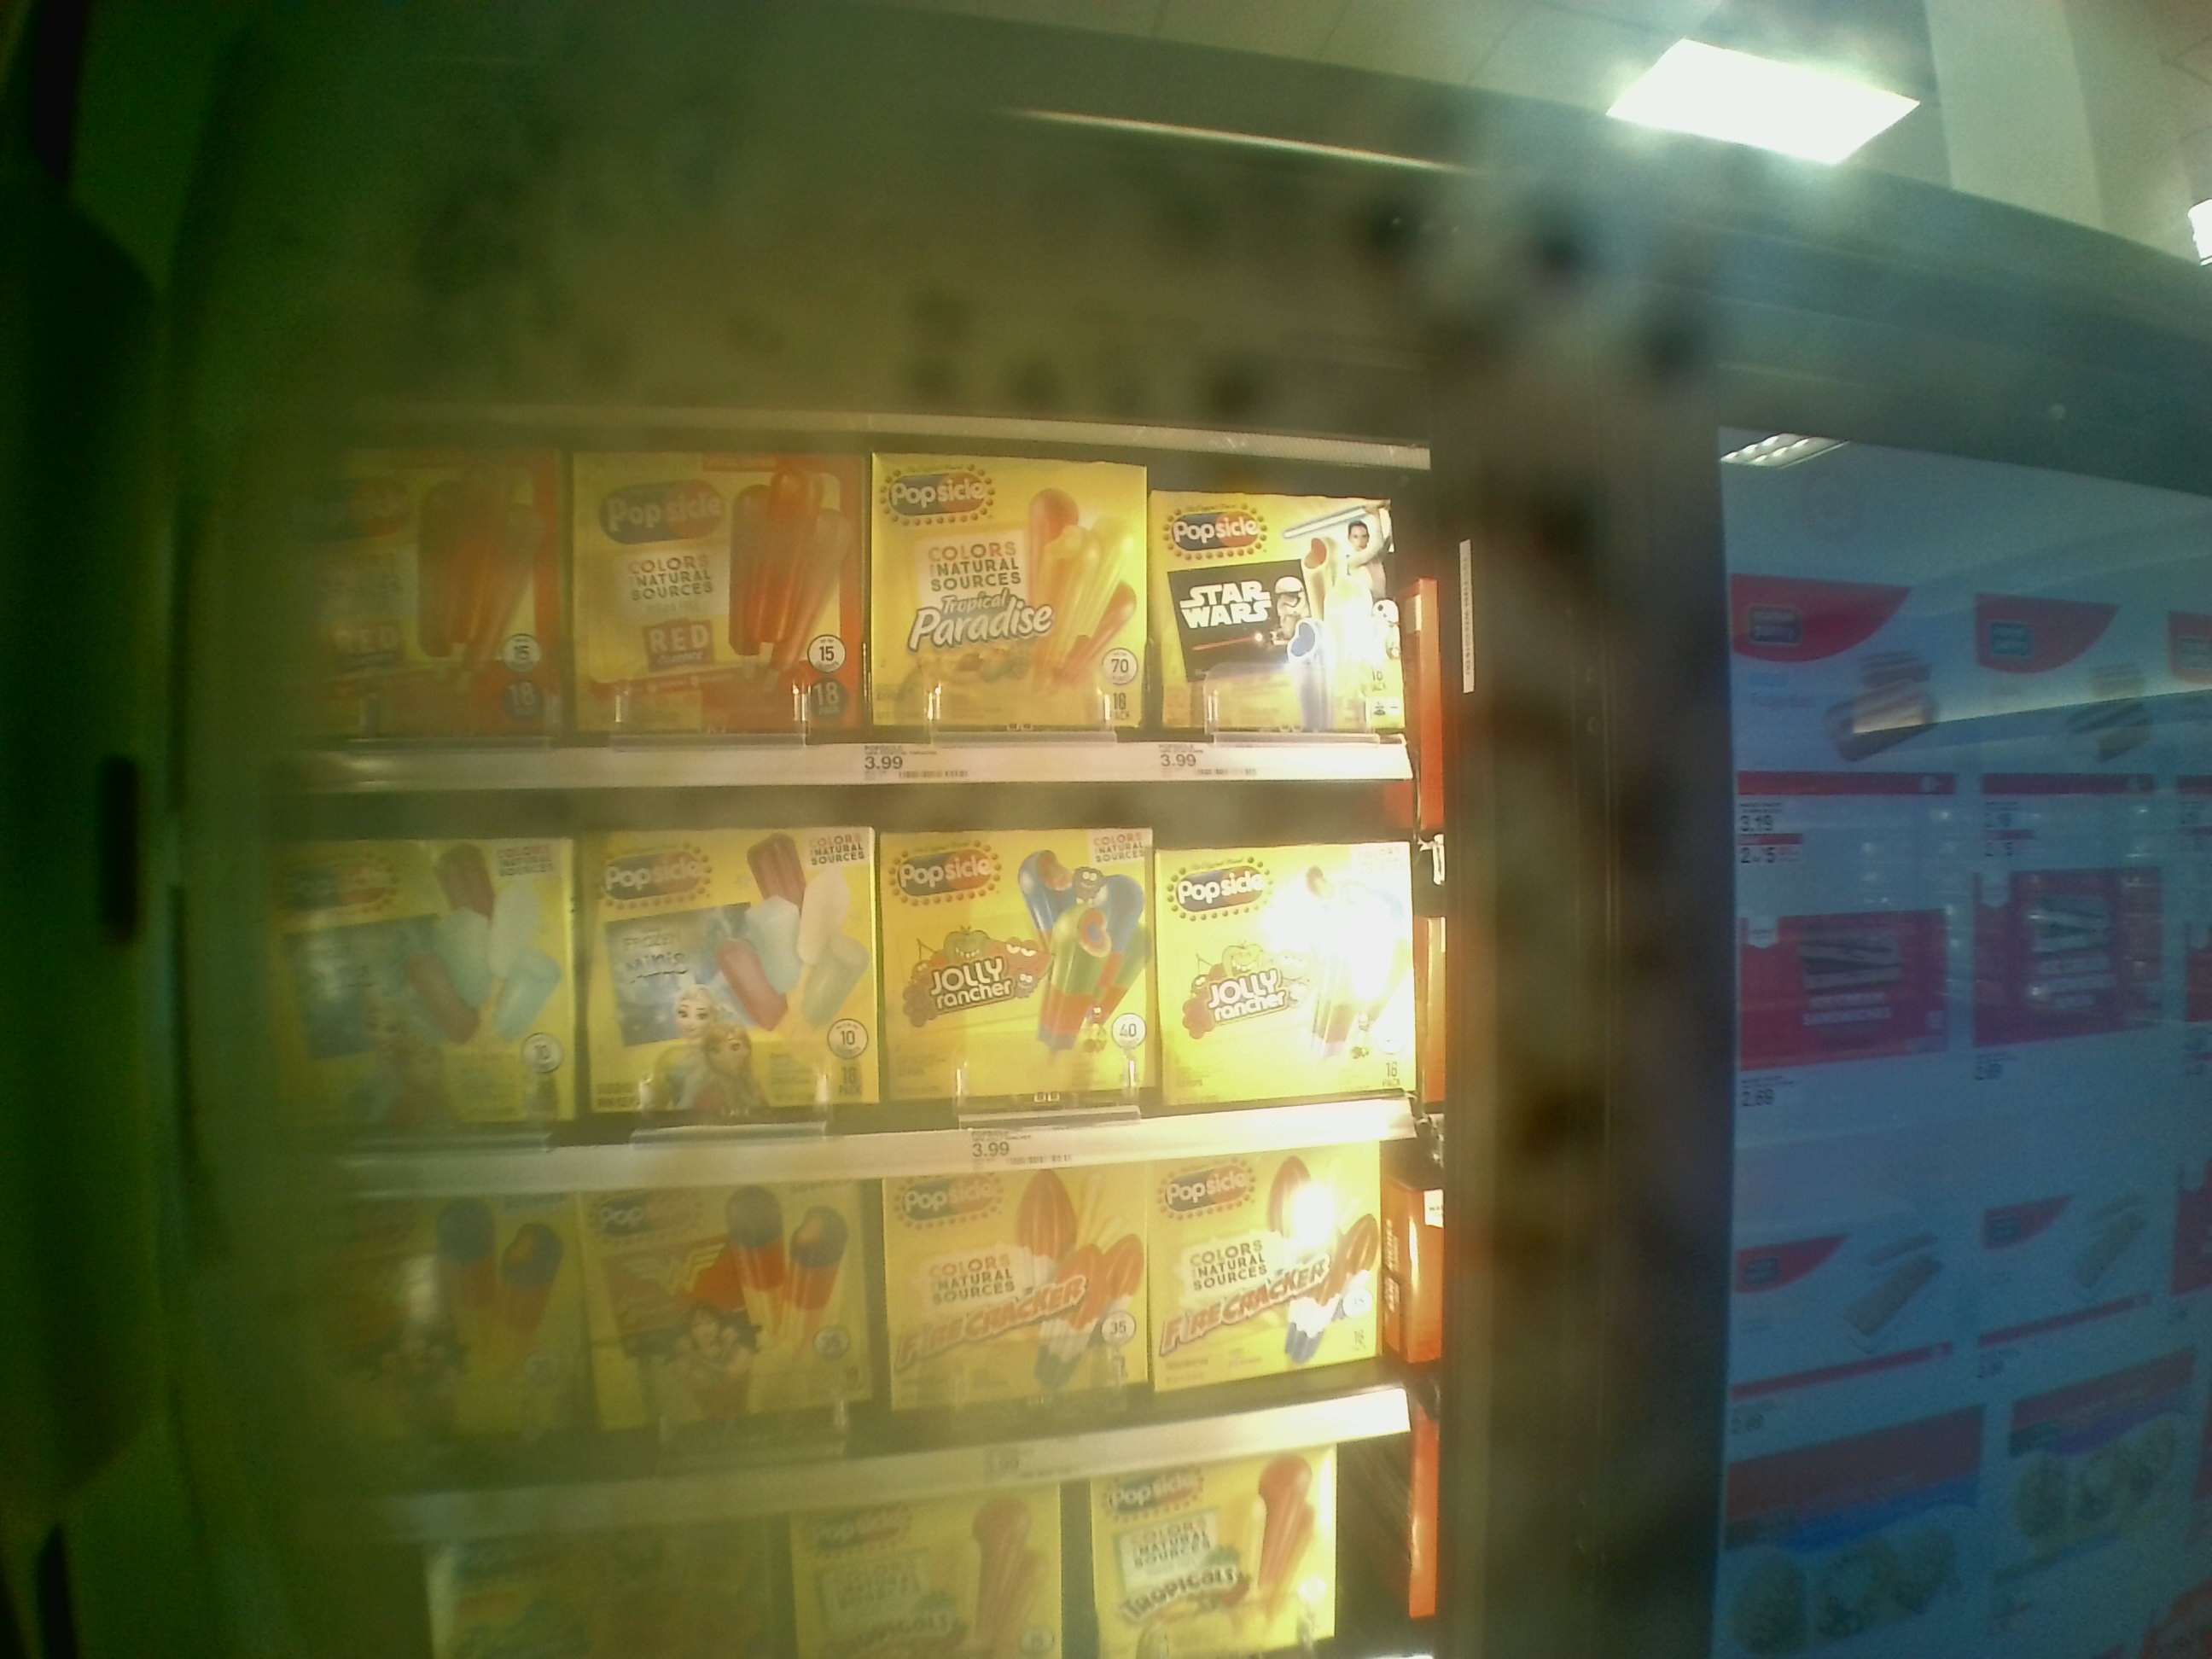frozen-food-shelf: (204, 793, 1440, 1201), (200, 420, 1430, 791)
